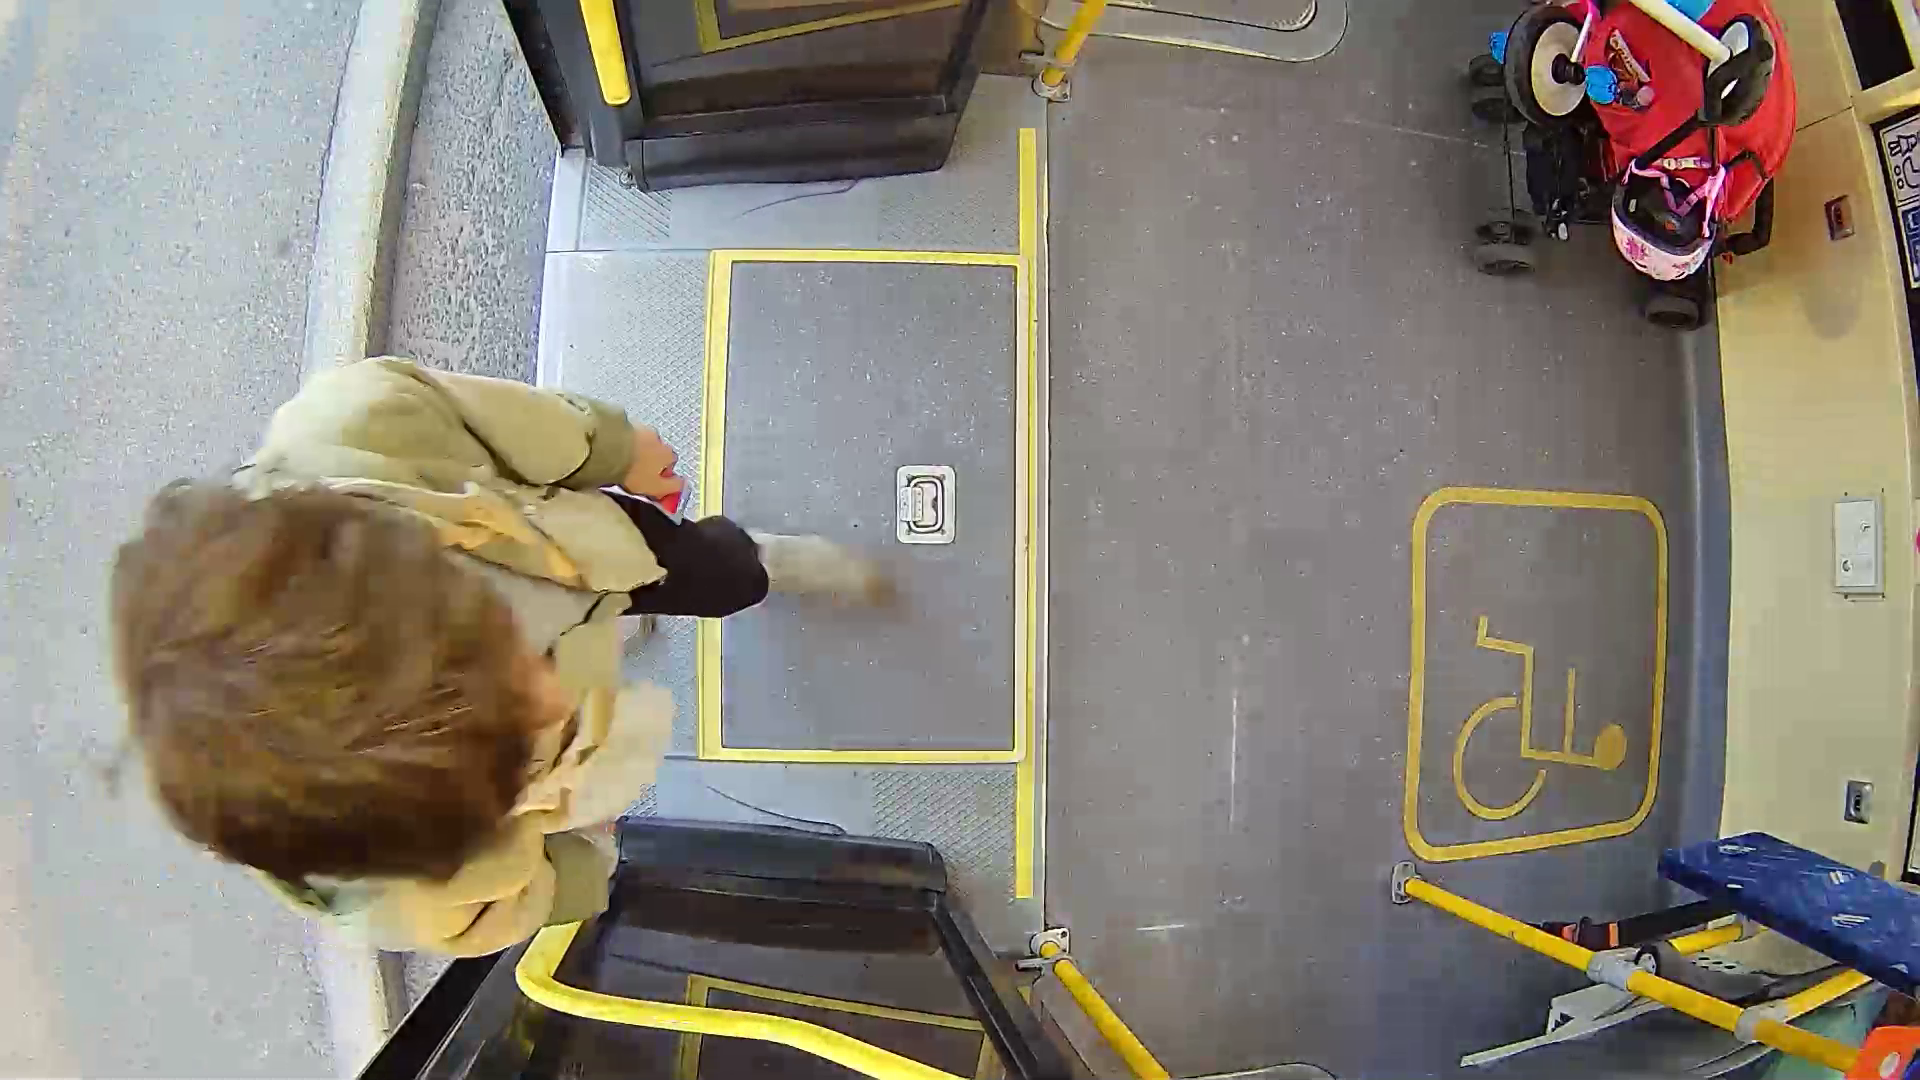person: (102, 344, 957, 982)
